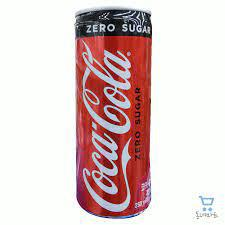cocacola_zero: (69, 4, 159, 220)
